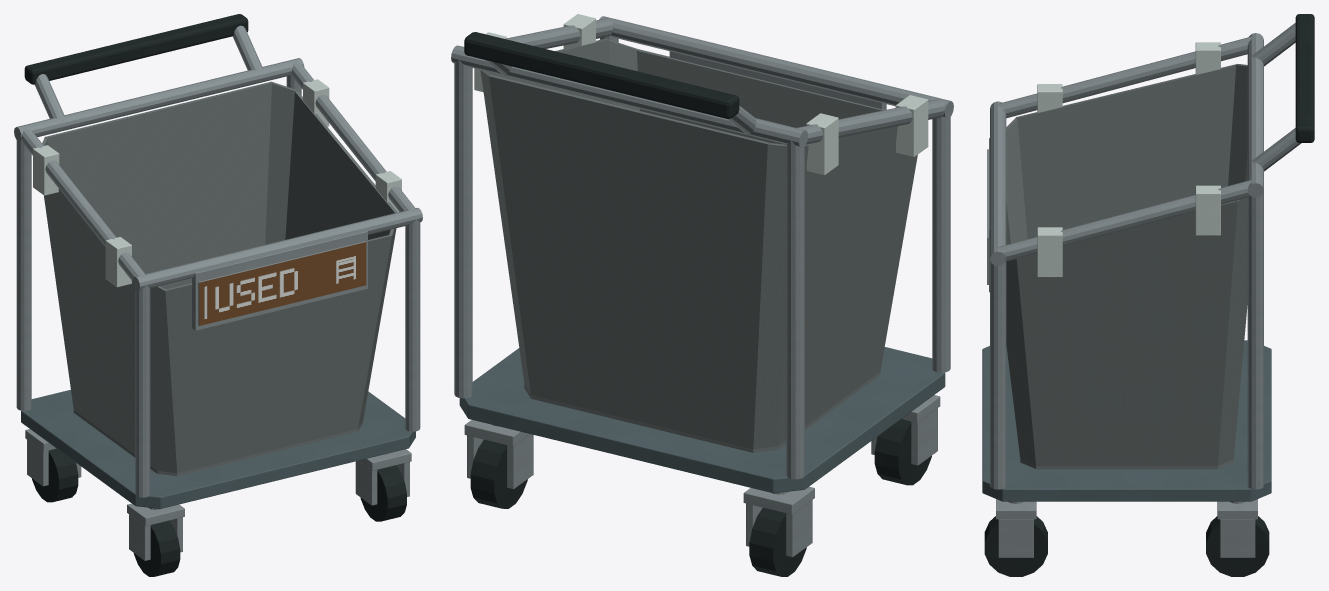
File: AST-HSK-004.glb
3 views of the same model, side by side, from view 1: azimuth 30°, elevation 25°; view 2: azimuth 150°, elevation 25°; view 3: azimuth 270°, elevation 25° (orthographic). The views are drawn at different scales.
Visible parts, largest first — view 1: AST-HSK-004__handling_canvas, AST-HSK-004__staff_zinc, AST-HSK-004__staff_bluegrey_paint, AST-HSK-004__staff_rubber, AST-HSK-004__staff_zinc__graphic, AST-HSK-004__handling_linen; view 2: AST-HSK-004__handling_canvas, AST-HSK-004__staff_zinc, AST-HSK-004__staff_bluegrey_paint, AST-HSK-004__staff_rubber, AST-HSK-004__handling_linen; view 3: AST-HSK-004__handling_canvas, AST-HSK-004__staff_zinc, AST-HSK-004__staff_bluegrey_paint, AST-HSK-004__staff_rubber, AST-HSK-004__handling_linen.
Boxes of the visible parts, bbox=[...] form: AST-HSK-004__handling_canvas: bbox=[42, 81, 397, 475]; AST-HSK-004__staff_zinc: bbox=[14, 25, 422, 560]; AST-HSK-004__staff_bluegrey_paint: bbox=[21, 389, 415, 508]; AST-HSK-004__staff_rubber: bbox=[24, 14, 406, 576]; AST-HSK-004__staff_zinc__graphic: bbox=[198, 241, 366, 325]; AST-HSK-004__handling_linen: bbox=[33, 79, 401, 287]; AST-HSK-004__handling_canvas: bbox=[480, 38, 917, 452]; AST-HSK-004__staff_zinc: bbox=[451, 16, 953, 557]; AST-HSK-004__staff_bluegrey_paint: bbox=[459, 347, 945, 493]; AST-HSK-004__staff_rubber: bbox=[464, 32, 931, 576]; AST-HSK-004__handling_linen: bbox=[474, 14, 928, 175]; AST-HSK-004__handling_canvas: bbox=[1006, 64, 1247, 469]; AST-HSK-004__staff_zinc: bbox=[989, 23, 1301, 557]; AST-HSK-004__staff_bluegrey_paint: bbox=[982, 340, 1271, 501]; AST-HSK-004__staff_rubber: bbox=[984, 14, 1314, 576]; AST-HSK-004__handling_linen: bbox=[1037, 42, 1220, 277].
Bounding box in the file's own units: 0.792 × 1.08 × 0.735.
Materials: 6 (6 with a texture image).
